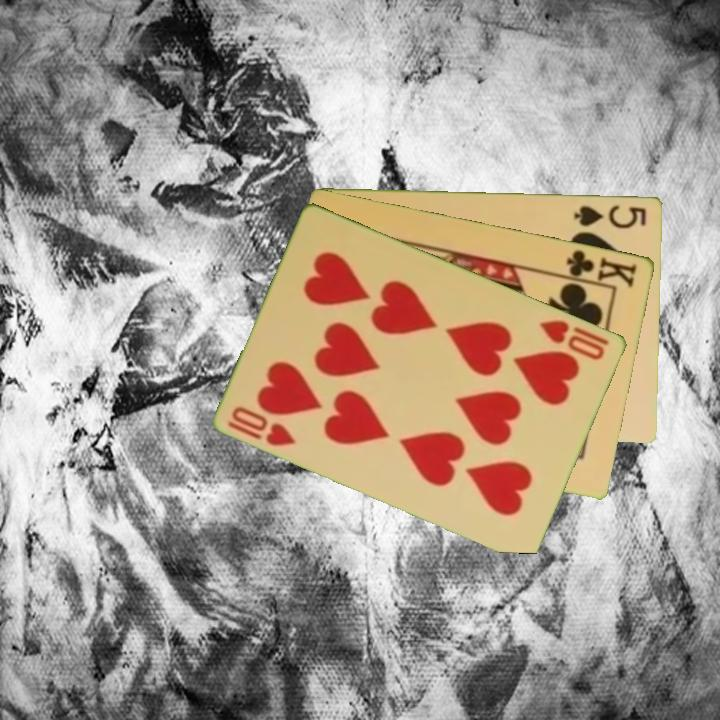10h: (224, 402, 300, 449), (536, 316, 609, 363)
5s: (571, 202, 650, 231)
Kc: (557, 246, 640, 290)
